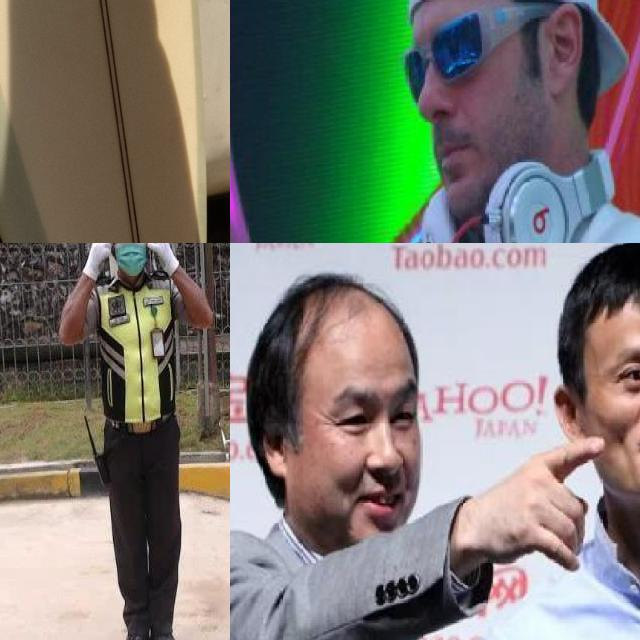No_Ear-Protection: (539, 0, 585, 96)
No_Glasses: (318, 375, 424, 438), (599, 342, 640, 400)
boots: (147, 622, 180, 640), (121, 623, 149, 640)
face_nomask: (304, 361, 424, 548), (395, 9, 501, 196), (580, 317, 640, 500)
glasses: (415, 0, 592, 89)
hand_noglove: (479, 434, 603, 572)
head_nohelmet: (279, 259, 439, 390), (576, 243, 640, 329)
person: (230, 274, 489, 640), (324, 0, 640, 243), (65, 243, 217, 640), (506, 243, 640, 640)
vest: (92, 277, 183, 430)
